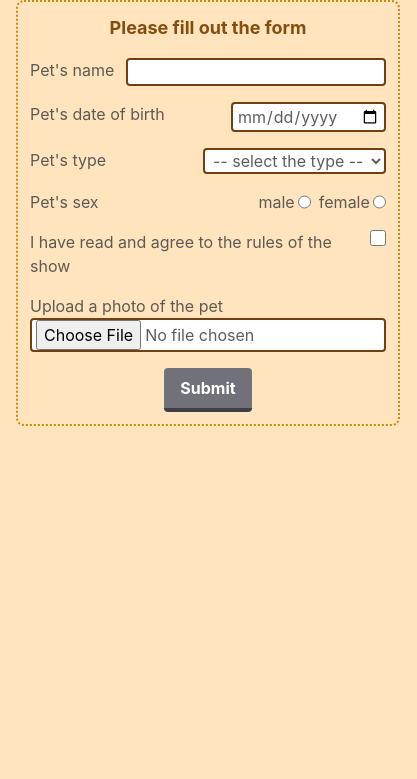
Test: Form component › renders another error for incorrect filling of name
The image size is (417, 779).
Click the button. click: coordinates (208, 390)
box: 164,368 -> 252,412
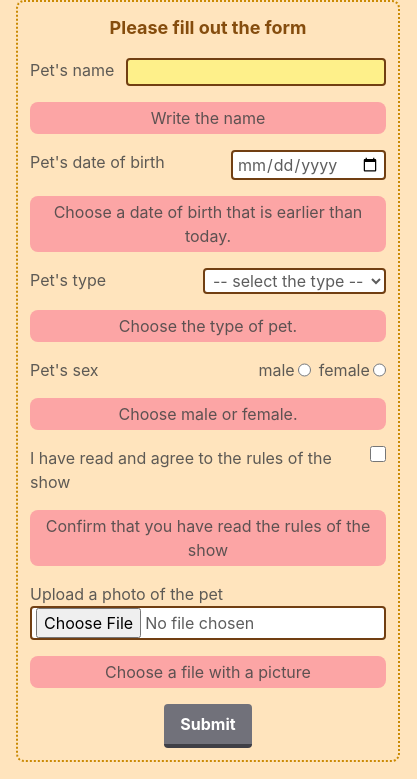
Expected: the text "Enter a name with the first uppercase letter." is not shown
Now the text "Write the name" is shown, box 30,102 -> 386,134
Type "aname" into the field labelled "Pet's name". click: coordinates (256, 72)
box: 126,58 -> 386,86
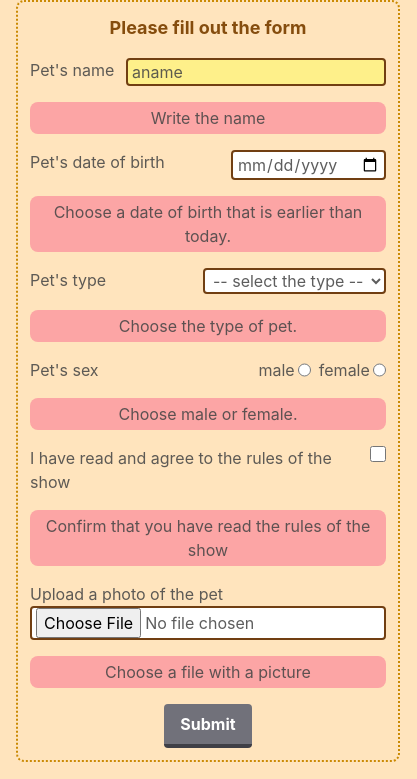
Click the button. click: coordinates (208, 726)
box: 164,704 -> 252,748
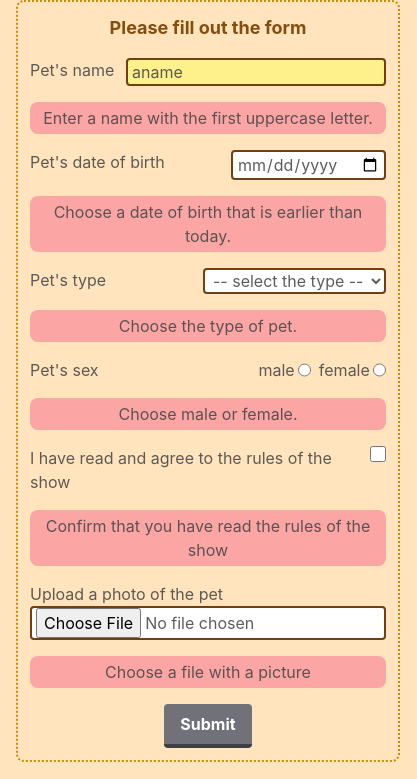
Now the text "Write the name" is gone
Now the text "Enter a name with the first uppercase letter." is shown, box 30,102 -> 386,134
